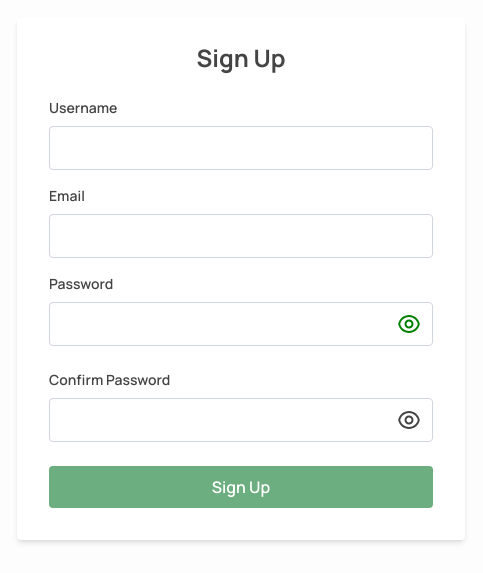
Test: AuthForm › shows error when email is already taken
This screenshot has width=483, height=573.
Type "testuser" into the field labelled "Username".
click(241, 148); type("testuser")  # box [49,126,433,170]
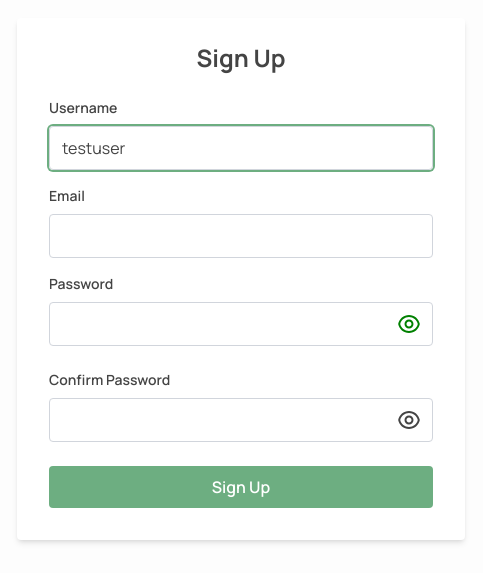
Type "test@example.com" into the field labelled "Email".
click(241, 236); type("test@example.com")  # box [49,214,433,258]
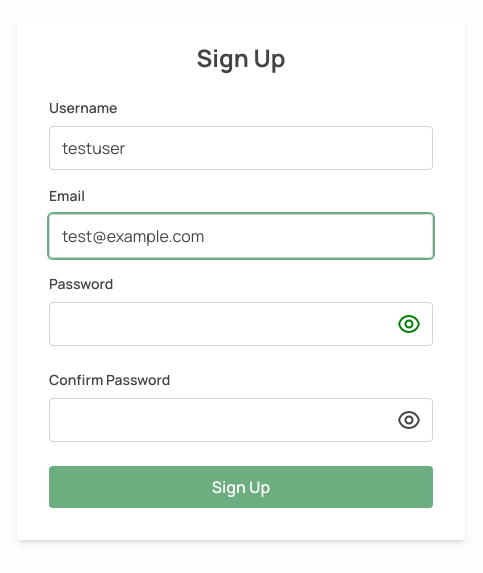
Type "Password1!" into the password field labelled "Password".
click(241, 324); type("Password1!")  # box [49,302,433,346]
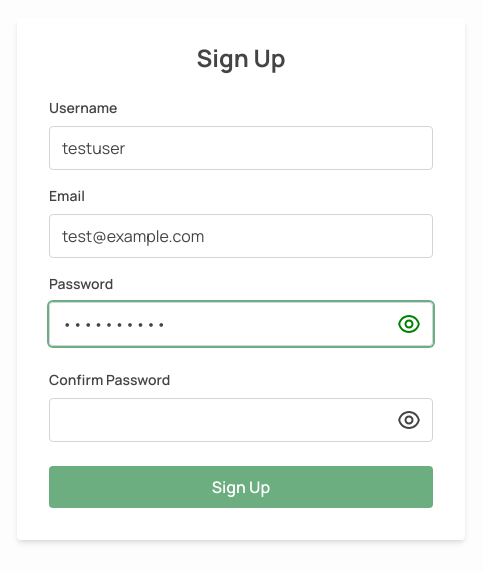
Type "Password1!" into the password field labelled "Confirm Password".
click(241, 420); type("Password1!")  # box [49,398,433,442]
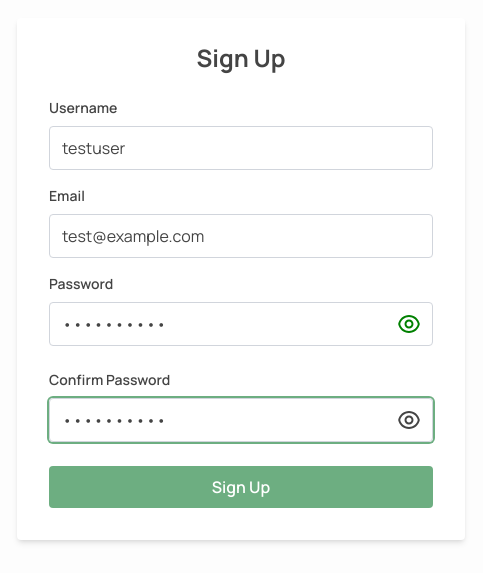
Click the button "Sign Up".
click(241, 487)  # box [49,466,433,508]
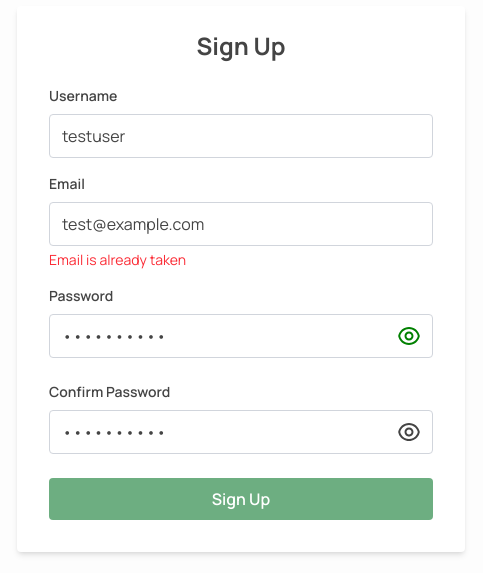
Now the text "Email is already taken" is shown, box [49,250,186,269]
